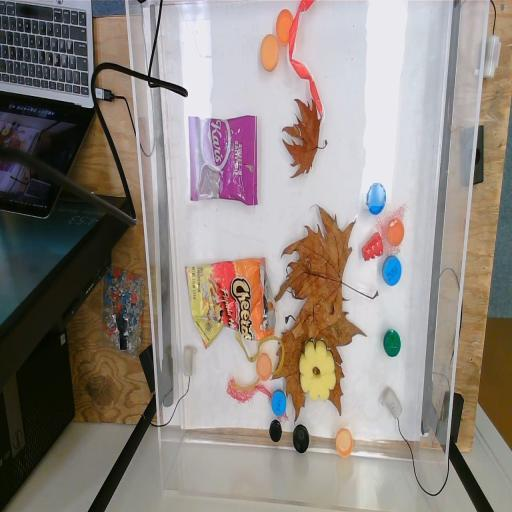Bottle Cap: (260, 34, 280, 72), (366, 181, 386, 216), (276, 8, 294, 46), (382, 255, 402, 287), (383, 328, 401, 358), (386, 218, 405, 246), (292, 425, 310, 454), (336, 428, 354, 457), (256, 352, 272, 382), (270, 390, 286, 417), (269, 419, 283, 444)
Cone Cap: (361, 230, 384, 262)
Leaf: (274, 203, 380, 338), (269, 294, 368, 426), (281, 96, 328, 180)
Netting: (226, 375, 290, 424), (374, 201, 408, 258)
Plastic Bag: (184, 256, 276, 350), (186, 112, 258, 204)
Plastic Strand: (288, 0, 324, 117), (231, 326, 285, 392)
Sponge: (298, 340, 336, 404)
